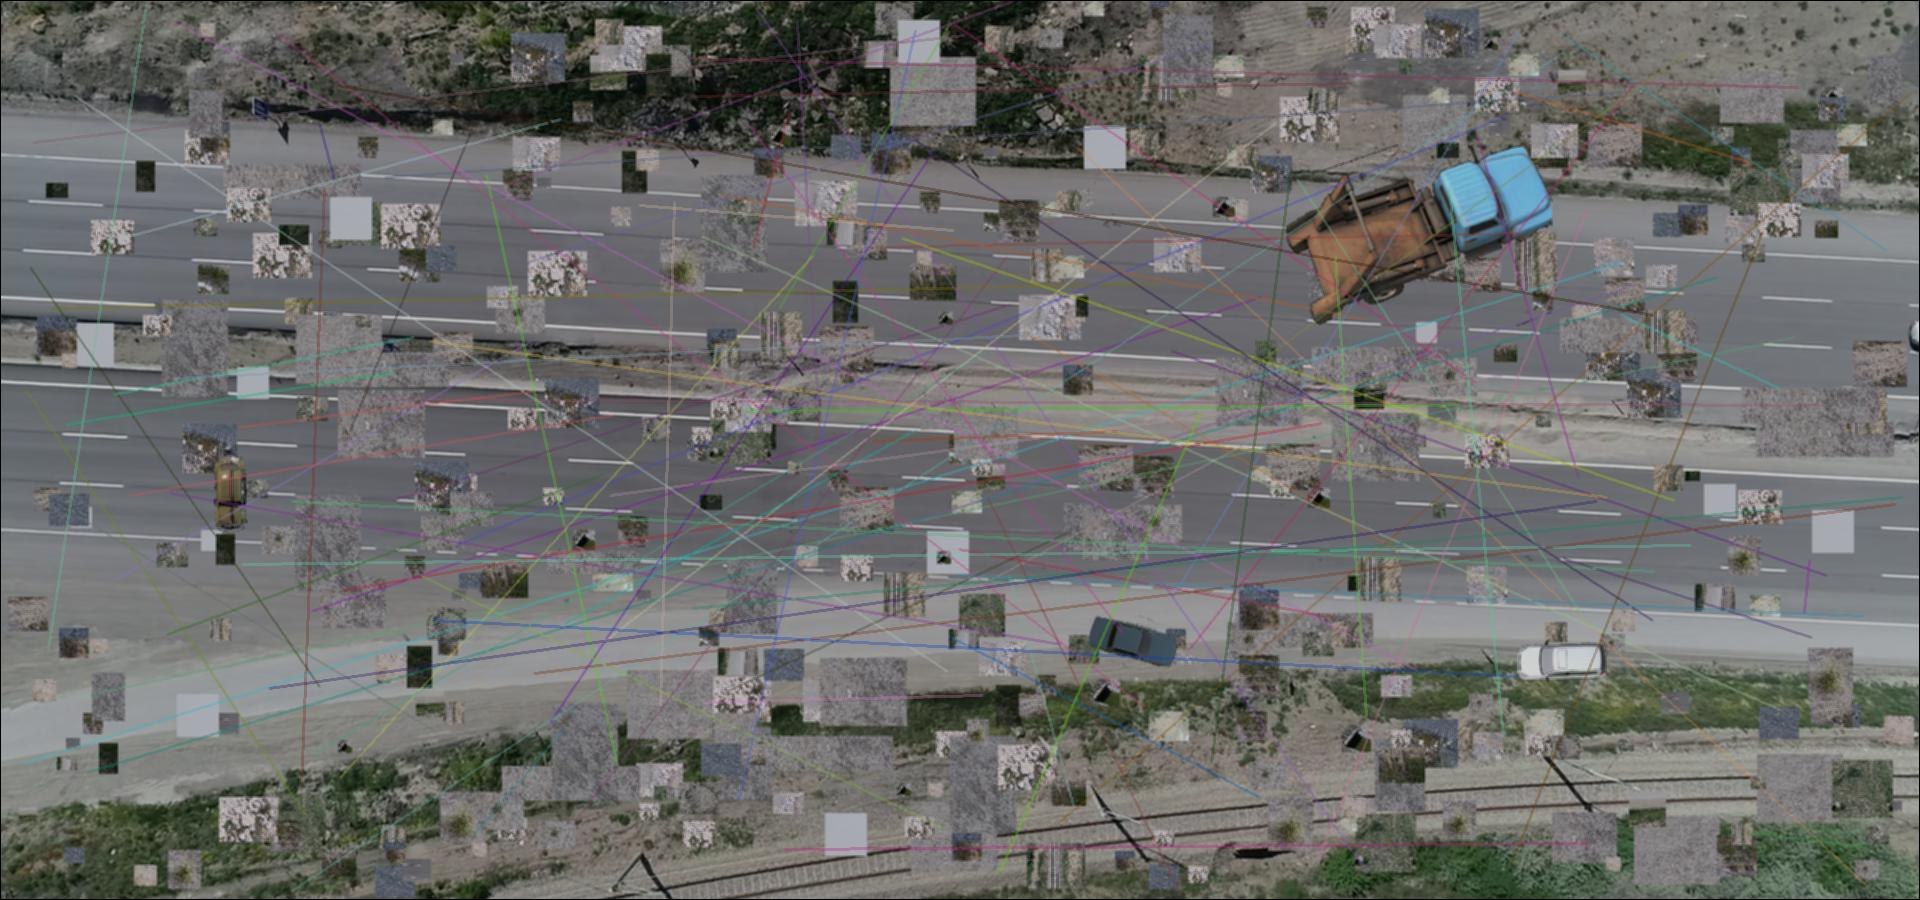arac: (1286, 144, 1551, 326), (1089, 616, 1179, 667), (1518, 640, 1608, 684), (211, 451, 247, 536)
